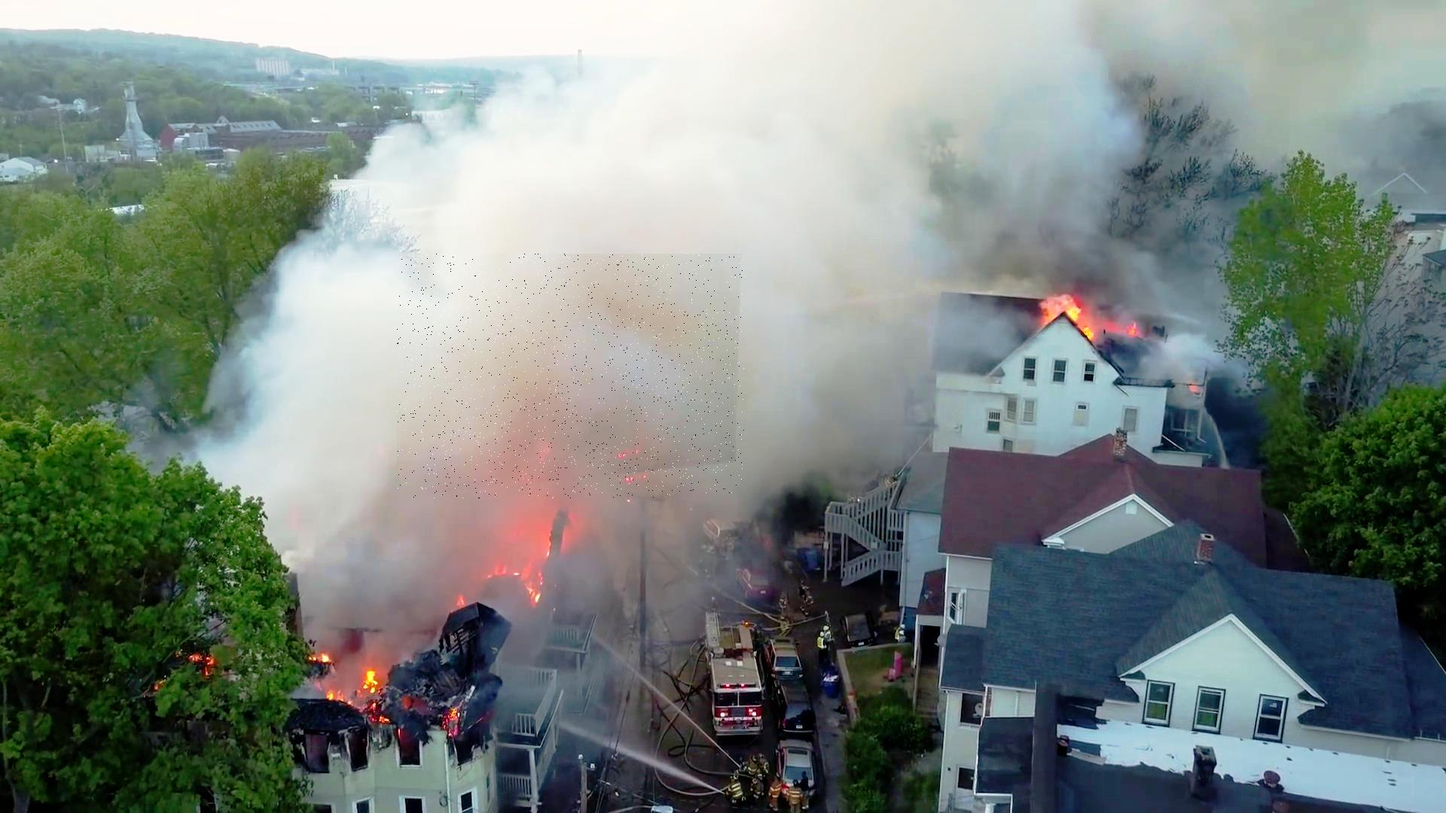smoke: (398, 254, 745, 499)
